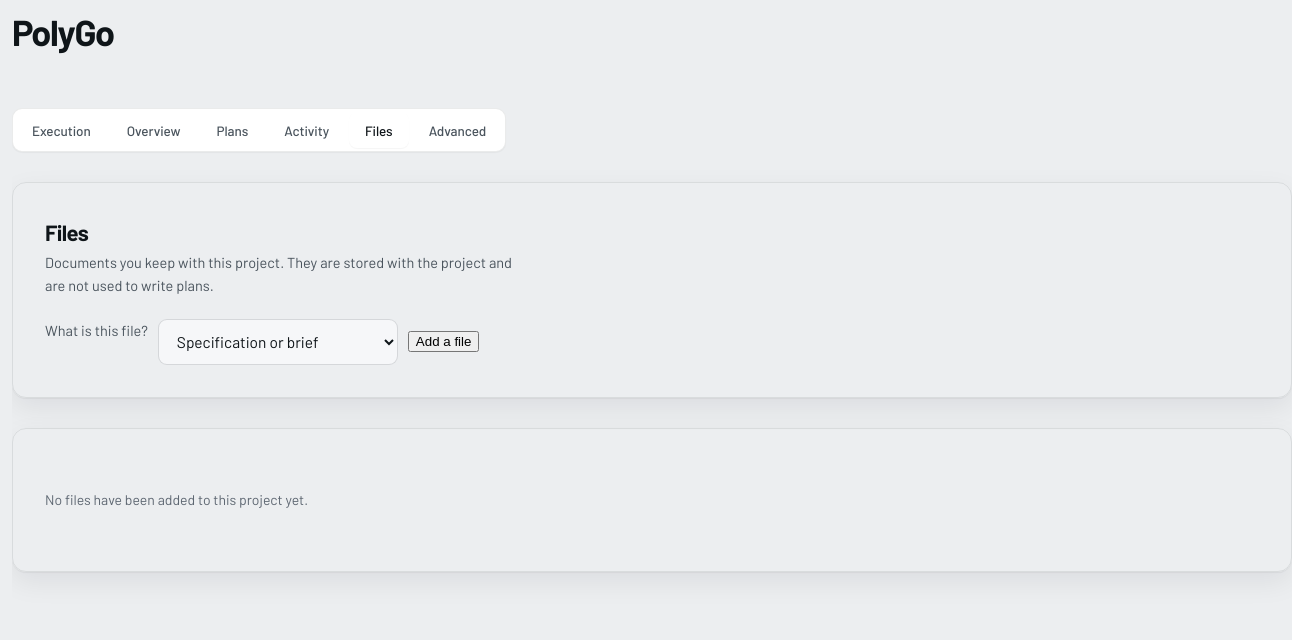
Test: adding a file dispatches no governed command and names no destination › a success is reported and the list is read again
Click the button "Add a file" at (444, 342), box [408,331,479,352]
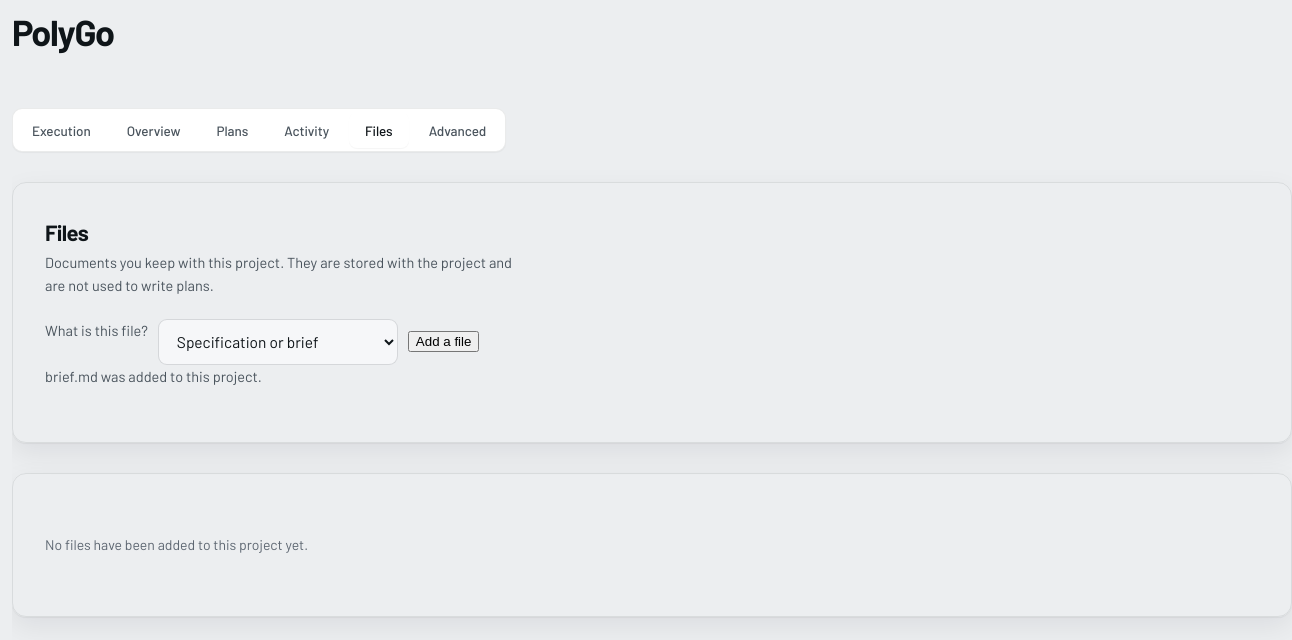
Check: the text "brief.md was added to this project." is shown, box [45,367,262,385]
